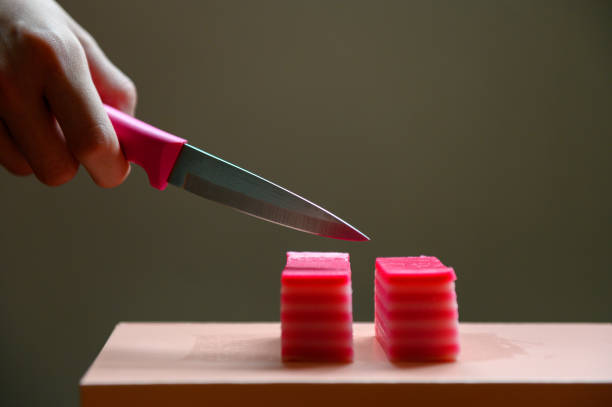knife: (97, 100, 373, 243)
